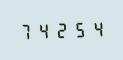five: (69, 19, 85, 39)
four: (35, 20, 51, 40), (86, 19, 102, 38)
seven: (18, 21, 34, 40)
two: (52, 20, 68, 39)
